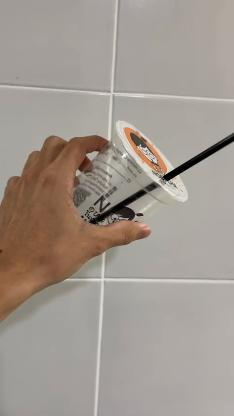Plastic Cup: (71, 119, 187, 232)
